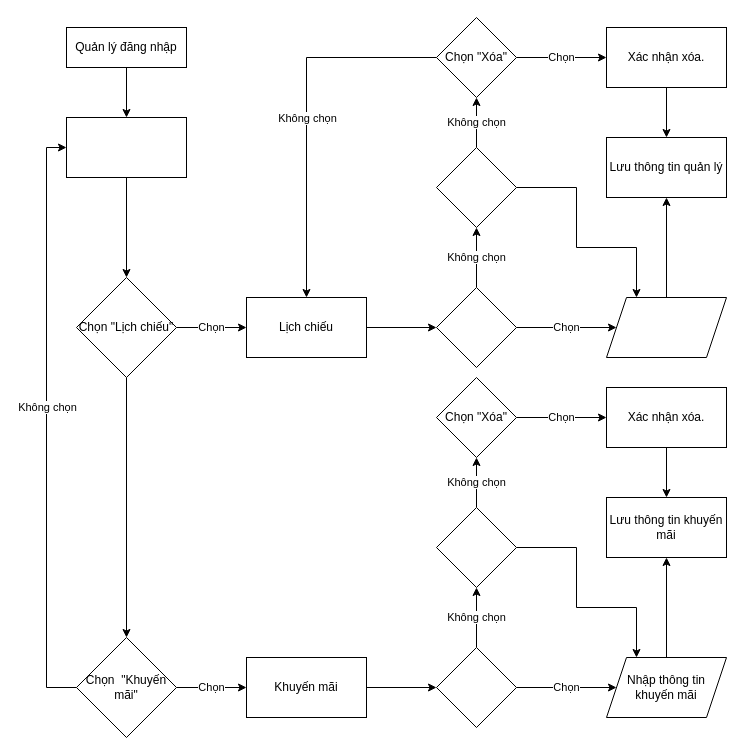
The diagram is 744 pixels wide and 755 high, and some of its shapes have lost their labels. The shapes that lost their labels are listed below. From the top down, each one's centre as x and y in pixels, then its label:
pixel 126 147: Dashboard quản lý
pixel 476 187: Chọn "Sửa phim"
pixel 476 327: Chọn "Thêm phim"
pixel 666 327: Nhập thông tin phim
pixel 476 547: Chọn "Sửa khuyến mãi"
pixel 476 687: Chọn "Thêm khuyến mãi"
